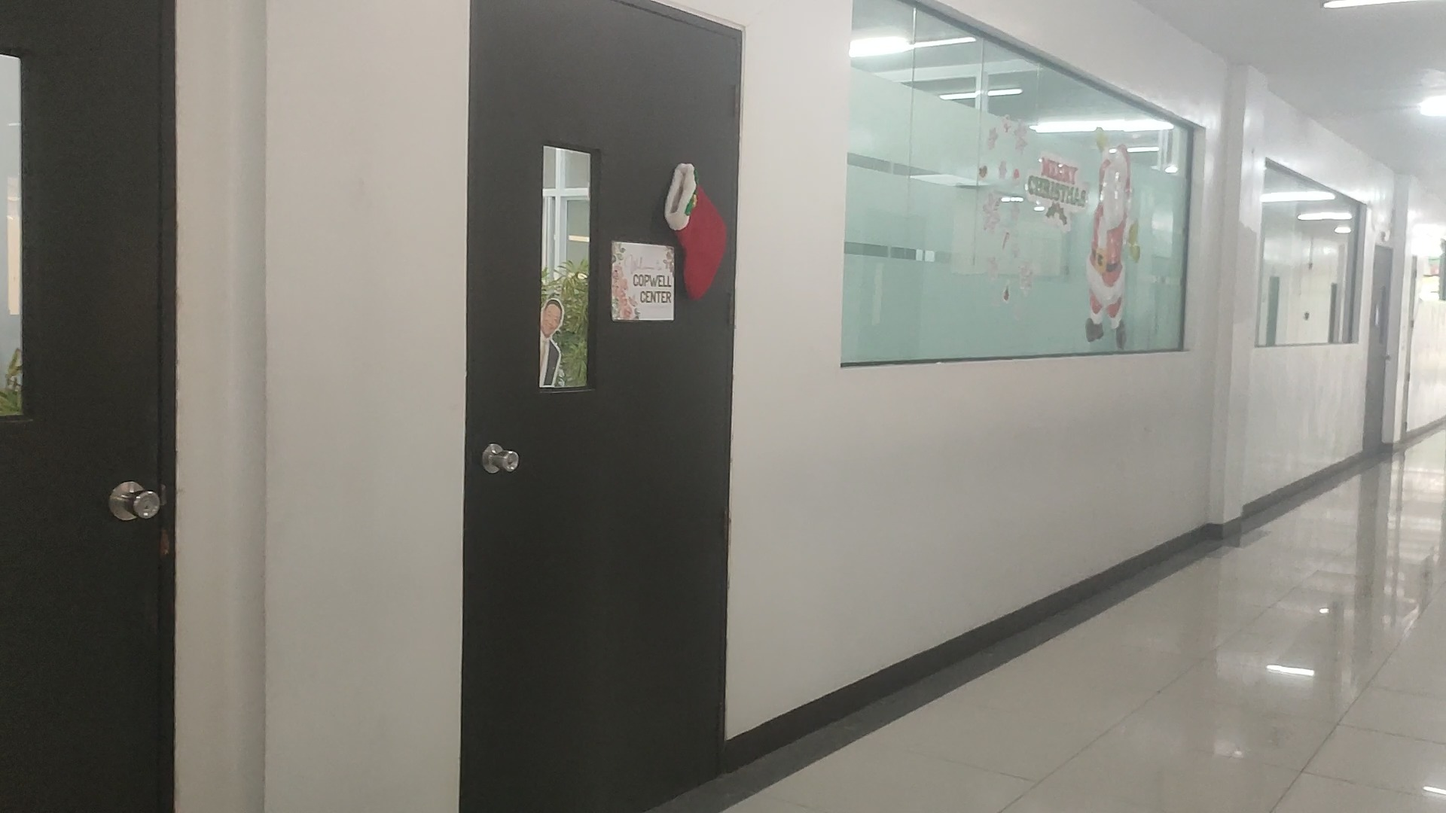door: (460, 0, 745, 813), (0, 0, 175, 813)
